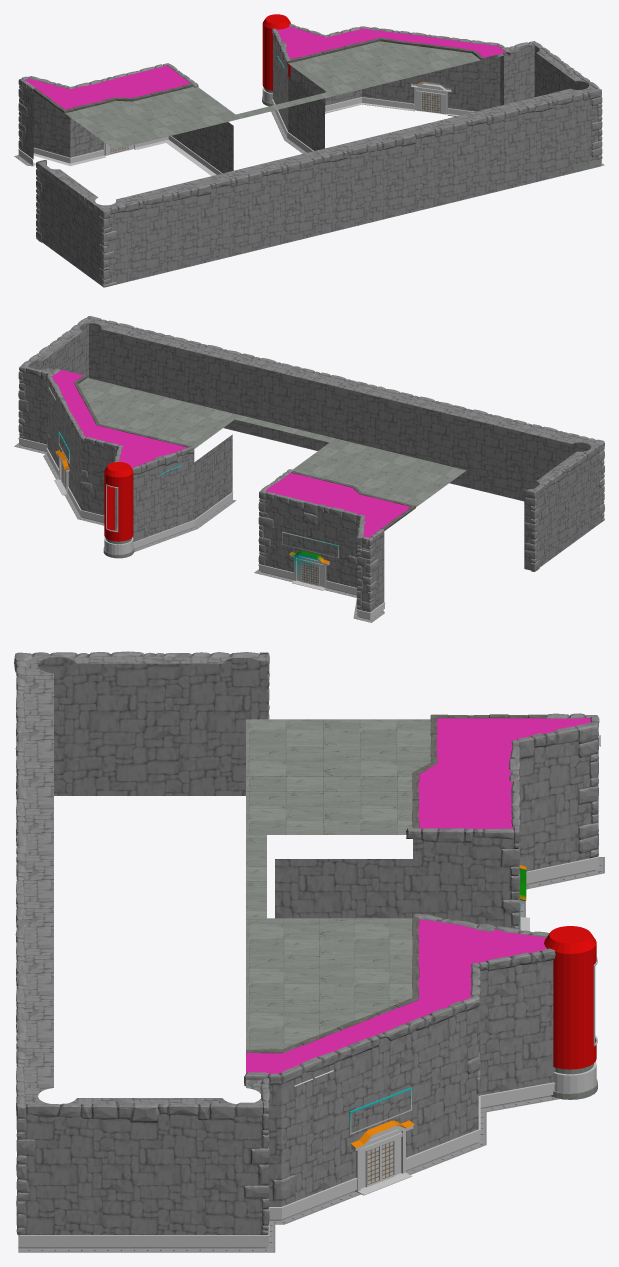
File: SM_ENV_KNVLLG_AreaH_Wall_A.mo.fbx
The picture shows the model from 3 angles, top to bottom: view 1: azimuth 30°, elevation 25°; view 2: azimuth 150°, elevation 25°; view 3: azimuth 270°, elevation 25°; orthographic projection. The views are drawn at different scales.
Parts seen in each view (by area): view 1: SM_ENV_KNVLLG_AreaH_Wall_A.mo; view 2: SM_ENV_KNVLLG_AreaH_Wall_A.mo; view 3: SM_ENV_KNVLLG_AreaH_Wall_A.mo.
Boxes of the visible parts, x1,y1,x2,y2 form: SM_ENV_KNVLLG_AreaH_Wall_A.mo: (14, 14, 604, 287); SM_ENV_KNVLLG_AreaH_Wall_A.mo: (14, 316, 604, 622); SM_ENV_KNVLLG_AreaH_Wall_A.mo: (14, 651, 604, 1252).
Size of the model in its own units: 82.28 by 13.03 by 44.93.
